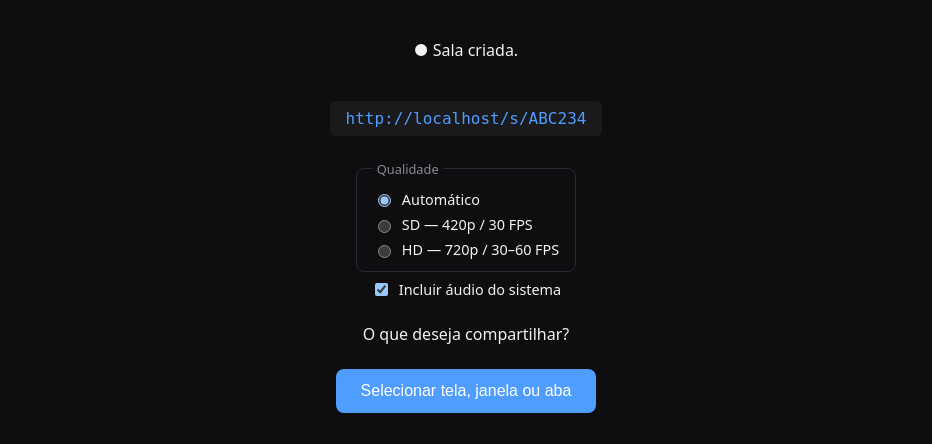
Test: Room (espectador) › explica o bloqueio de contexto inseguro (http://IP) em vez de uma mensagem genérica
Click the button "Selecionar tela, janela ou aba": click(466, 391) top-left (336, 369), bottom-right (596, 413)
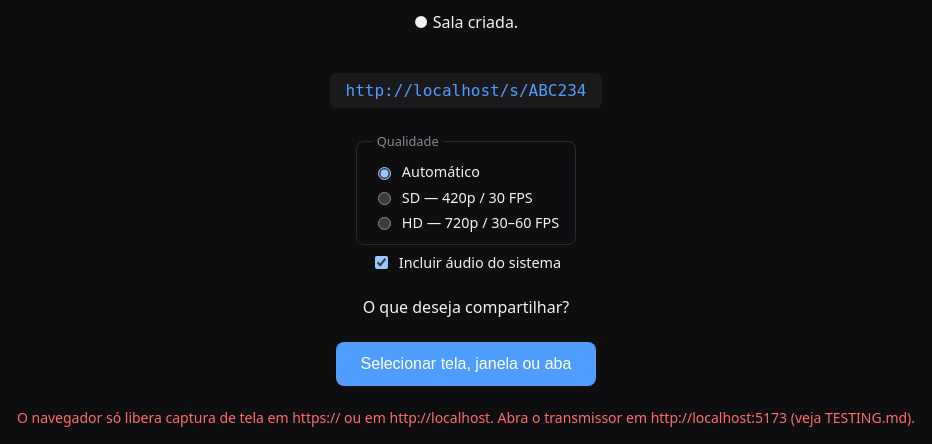
Expected: the text "só libera captura de tela em https" is shown, top-left (17, 408), bottom-right (915, 427)
